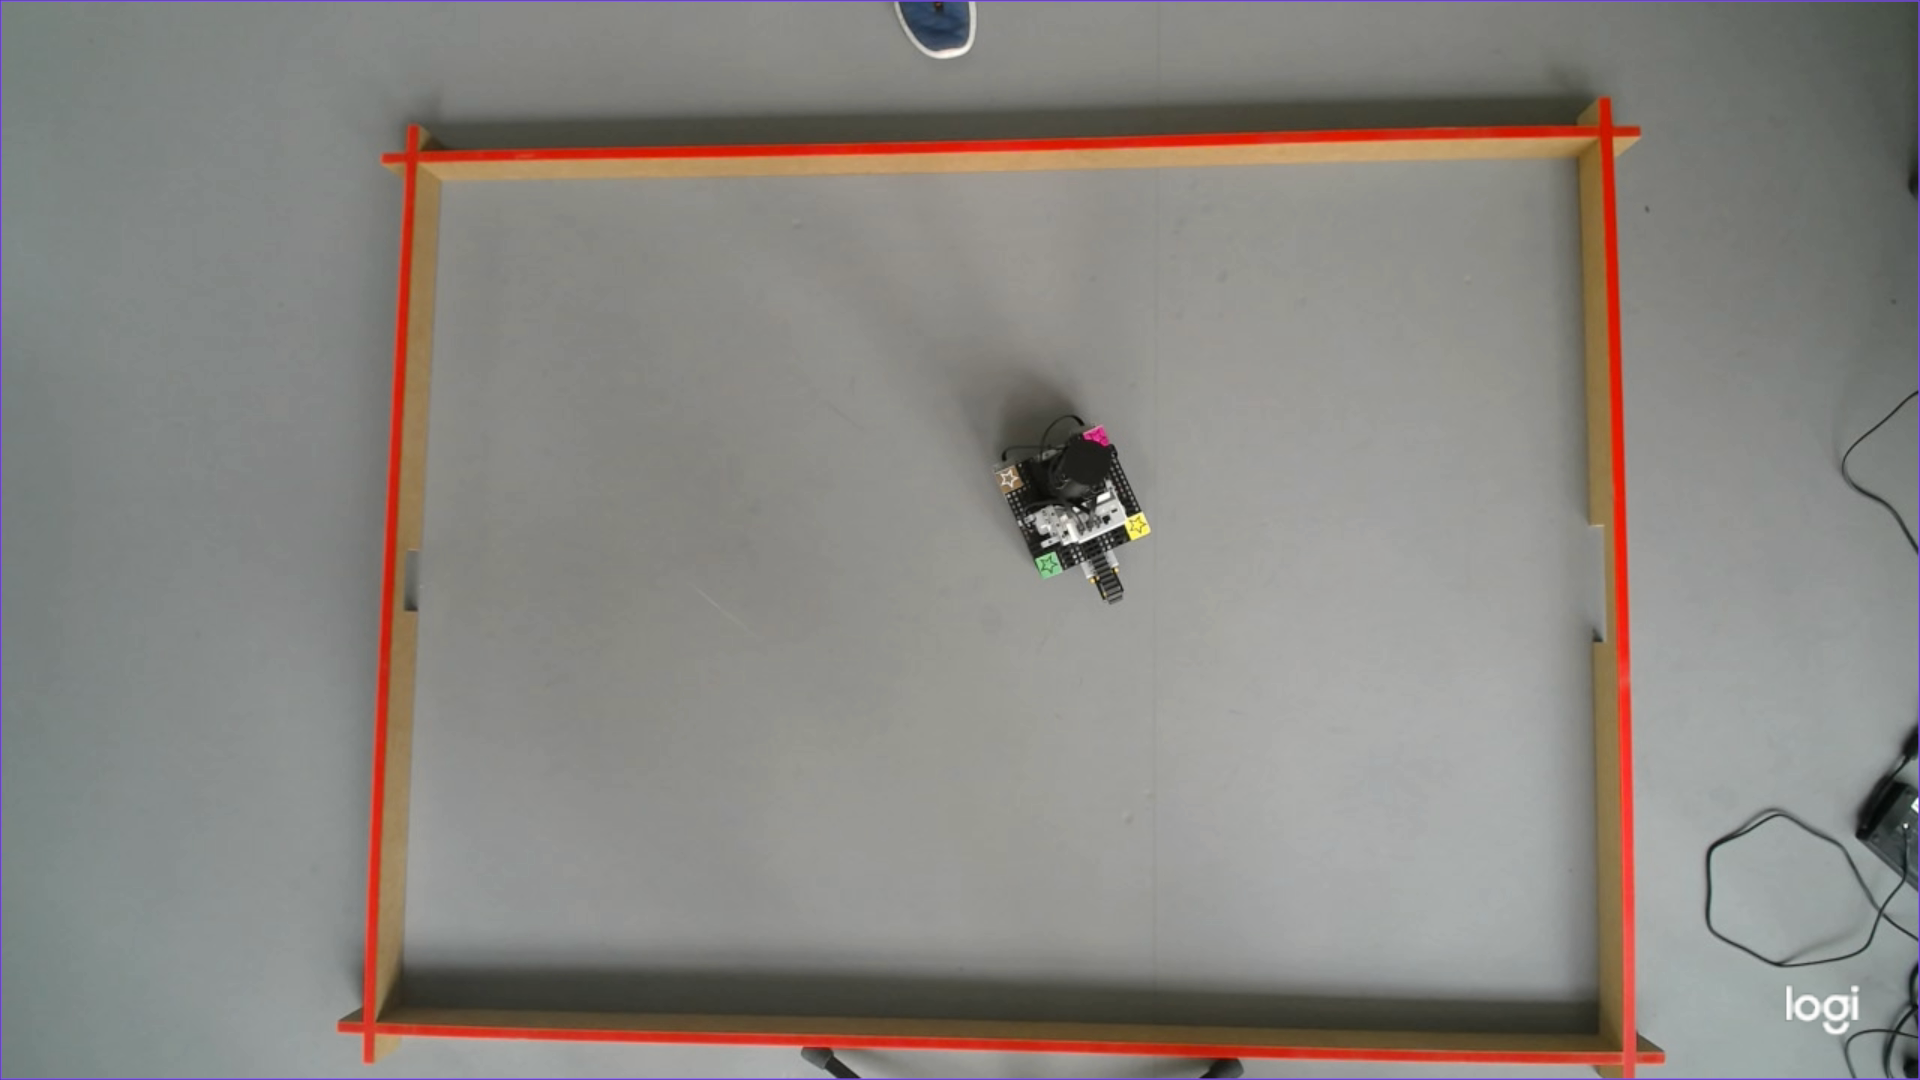corner_brown: (994, 465, 1023, 493)
corner_green: (1036, 551, 1062, 578)
corner_pink: (1083, 425, 1109, 448)
corner_yellow: (1124, 512, 1151, 541)
playfield: (344, 129, 1642, 1072)
playfield_corner: (396, 136, 433, 175), (1589, 109, 1626, 149), (1613, 1035, 1650, 1075), (351, 1005, 388, 1044)
